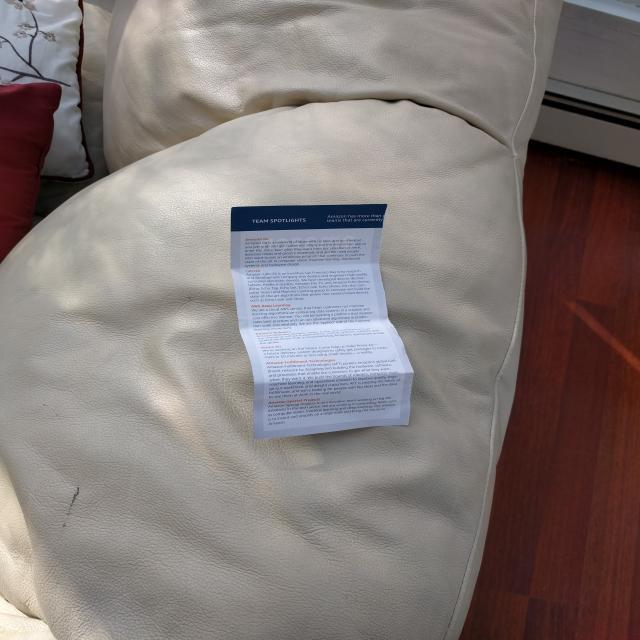document: (230, 205, 413, 439)
